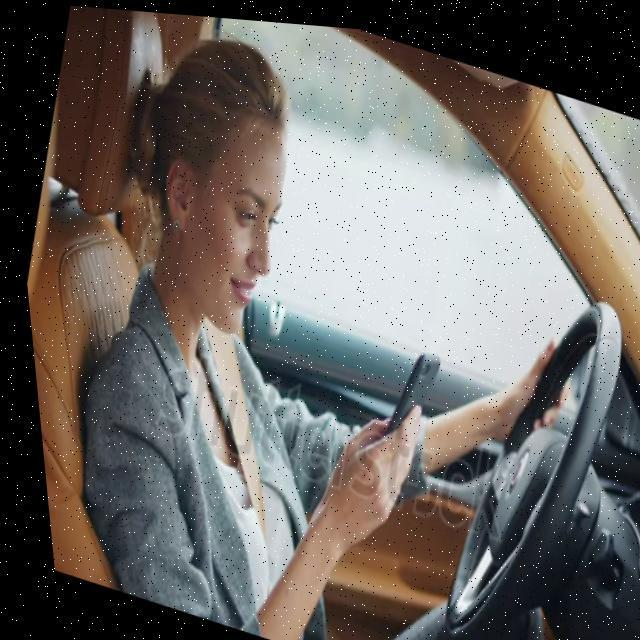PhoneCall: (364, 332, 442, 450)
